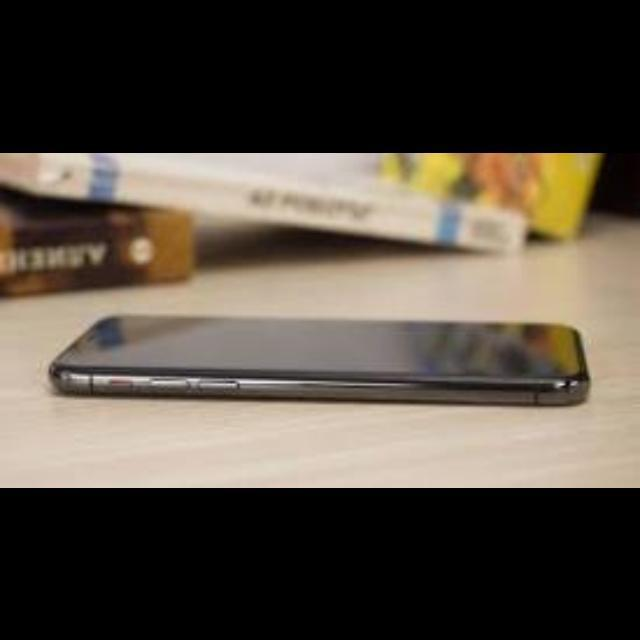PhoneUse: (52, 312, 590, 406)
